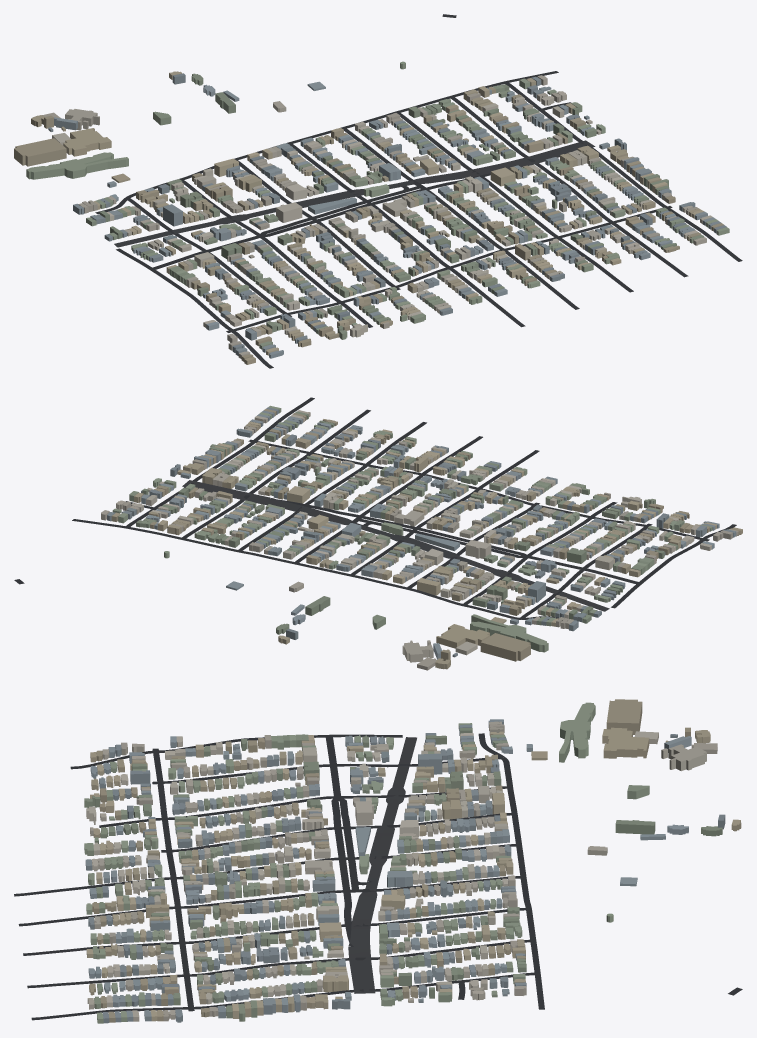
File: tile_2_12.glb
The picture shows the model from 3 angles, top to bottom: view 1: azimuth 30°, elevation 25°; view 2: azimuth 150°, elevation 25°; view 3: azimuth 270°, elevation 25°; orthographic projection. The views are drawn at different scales.
Parts seen in each view (by area): view 1: bld_2_12, road_2_12; view 2: bld_2_12, road_2_12; view 3: bld_2_12, road_2_12.
Boxes of the visible parts, x1=… form: bld_2_12: x1=14, y1=61, x2=729, y2=364; road_2_12: x1=95, y1=14, x2=742, y2=368; bld_2_12: x1=101, y1=405, x2=742, y2=670; road_2_12: x1=14, y1=397, x2=736, y2=619; bld_2_12: x1=84, y1=699, x2=741, y2=1023; road_2_12: x1=14, y1=733, x2=742, y2=1020.
Size of the model in its own units: 856 by 81.62 by 896.
